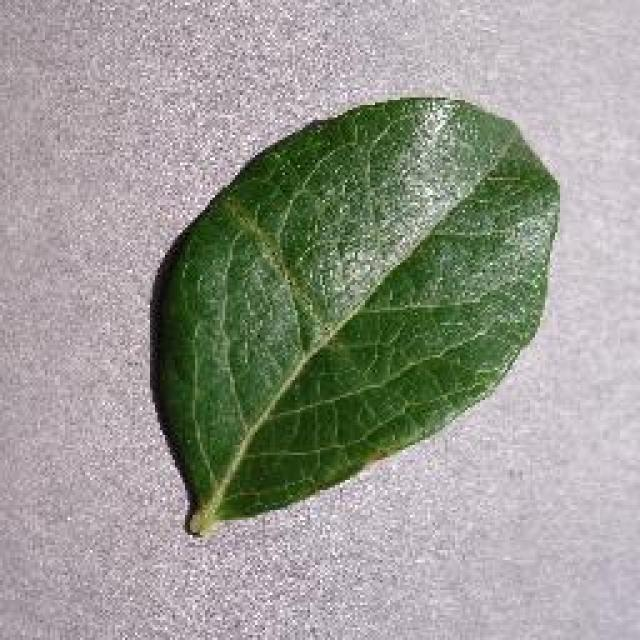Blu_healthy: (189, 133, 515, 455)
